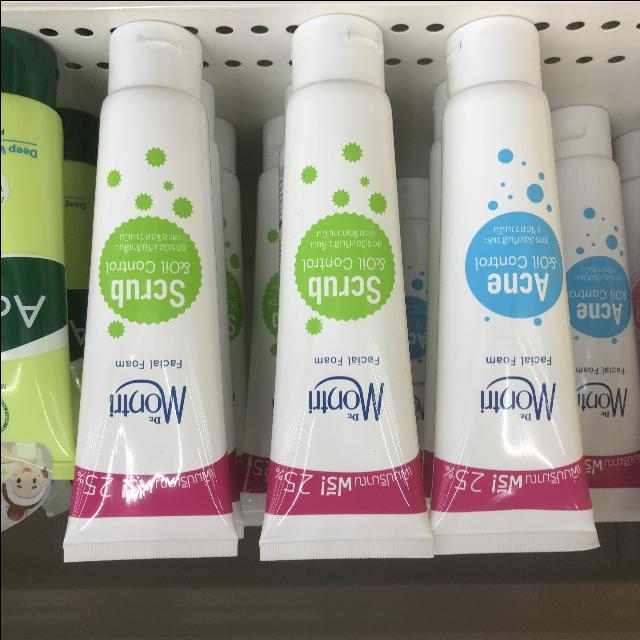Squeeze Tube: (412, 14, 607, 582), (244, 2, 430, 570), (60, 6, 242, 580), (0, 9, 82, 496), (556, 82, 640, 535)
